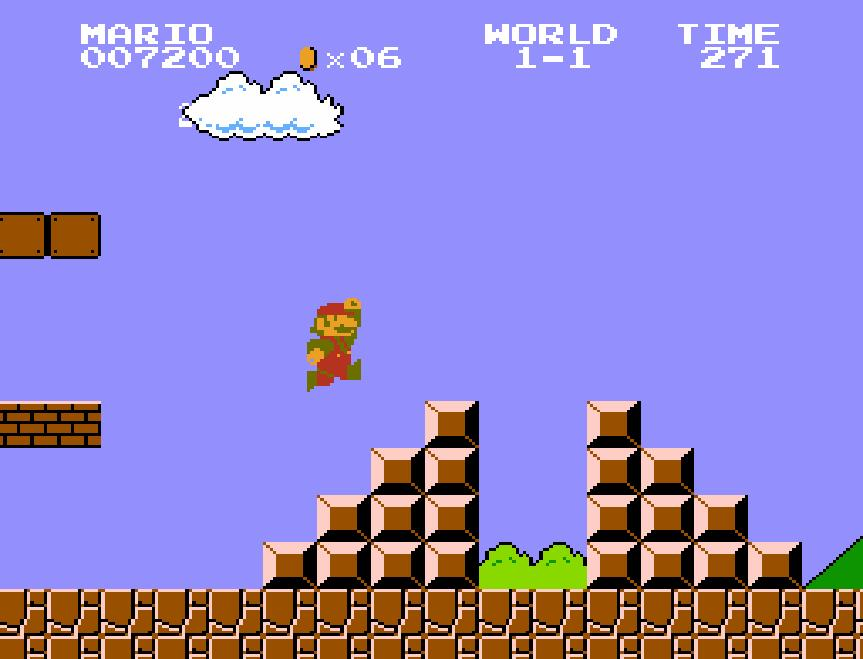big_mario: (304, 295, 362, 394)
